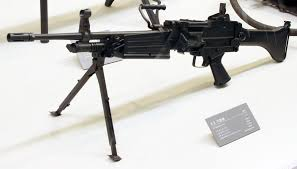gun: (4, 3, 291, 159)
